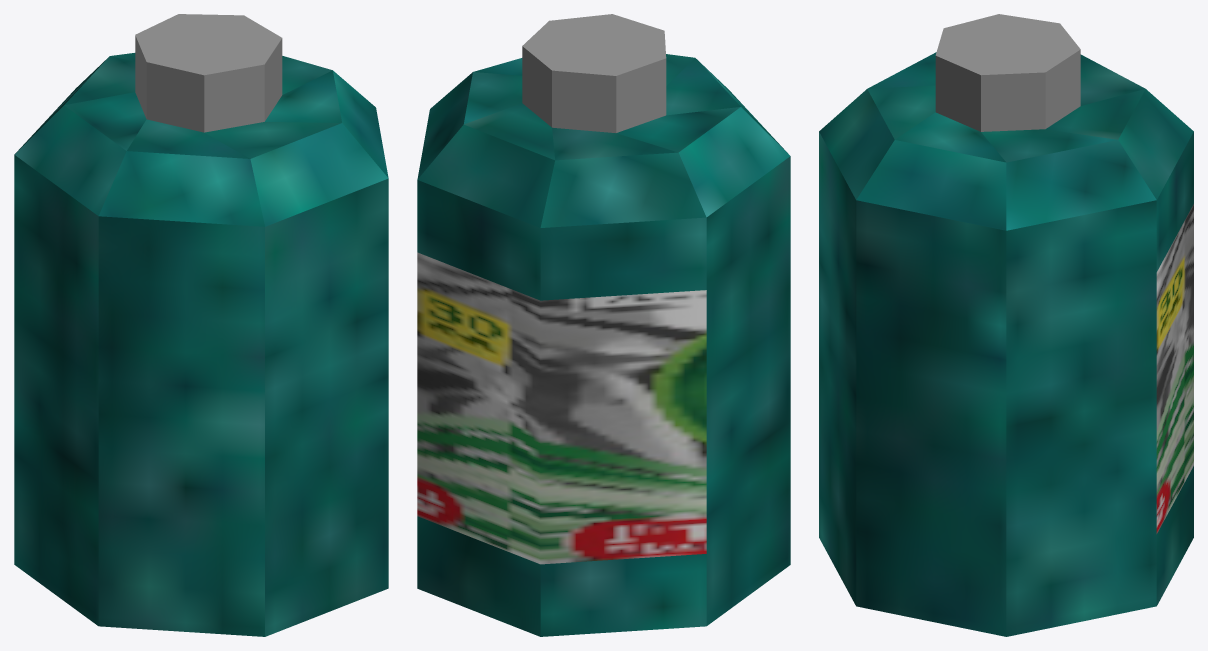
The model's file is bottle1.FBX.
3 views of the same model, side by side, from view 1: azimuth 30°, elevation 25°; view 2: azimuth 150°, elevation 25°; view 3: azimuth 270°, elevation 25° (orthographic).
Visible parts, largest first — view 1: Cylinder001, Object001; view 2: Cylinder001, mm, Object001; view 3: Cylinder001, Object001, mm.
Boxes of the visible parts, x1,y1,x2,y2 form: Cylinder001: (14,53,388,636); Object001: (135,14,282,132); Cylinder001: (417,54,790,636); mm: (417,252,706,564); Object001: (522,14,666,132); Cylinder001: (819,52,1193,636); Object001: (935,14,1080,131); mm: (1156,204,1193,533).
Bounding box in the file's own units: 2820 × 4344 × 2893.
3 materials, 2 textured.
